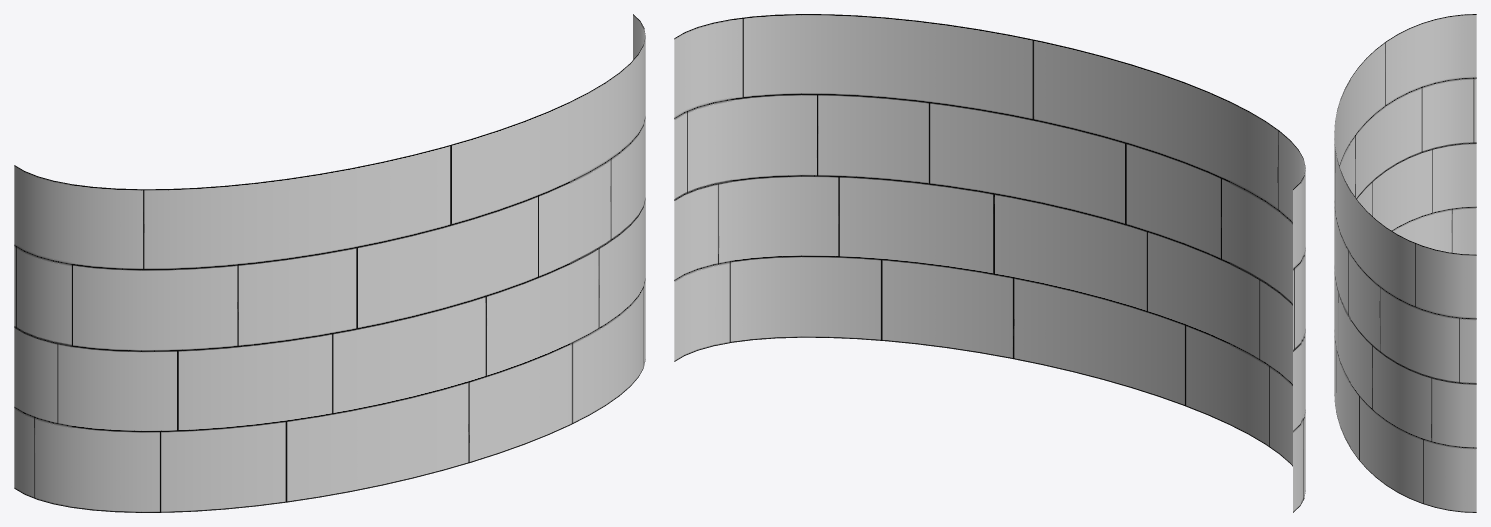
Rendered from Wall700x350xRout175cm.FBX.
3 views of the same model, side by side, from view 1: azimuth 30°, elevation 25°; view 2: azimuth 150°, elevation 25°; view 3: azimuth 270°, elevation 25° (orthographic). The views are drawn at different scales.
Visible parts, largest first — view 1: Wall700x350xRout175cm; view 2: Wall700x350xRout175cm; view 3: Wall700x350xRout175cm.
Part boxes in pixels (x1=…): Wall700x350xRout175cm: x1=14, y1=14, x2=645, y2=512; Wall700x350xRout175cm: x1=674, y1=14, x2=1305, y2=512; Wall700x350xRout175cm: x1=1334, y1=14, x2=1476, y2=512.
Bounding box in the file's own units: 700 × 350 × 175.
